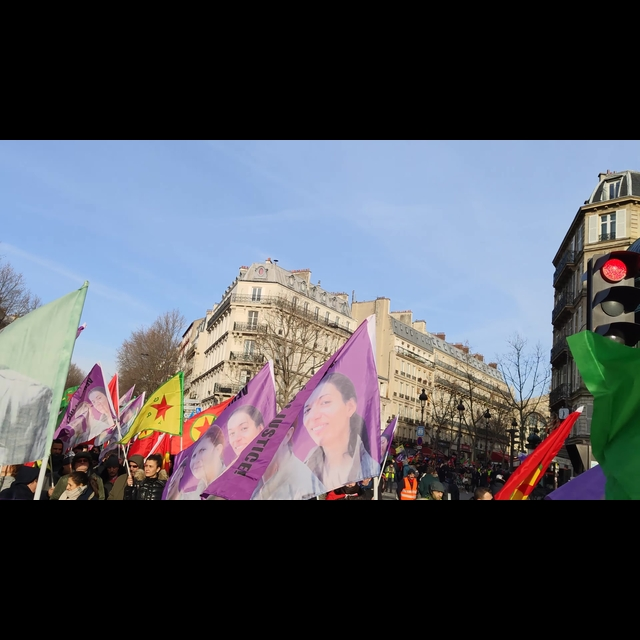YPG: (118, 370, 183, 440)
